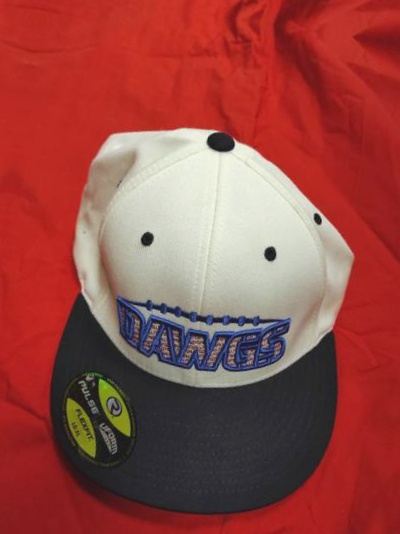Hat: (18, 84, 400, 534), (389, 142, 400, 534)
